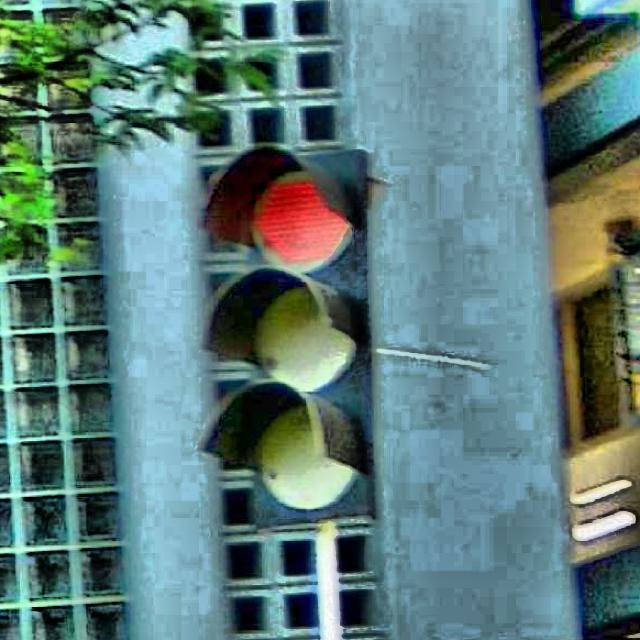red: (213, 142, 380, 516)
